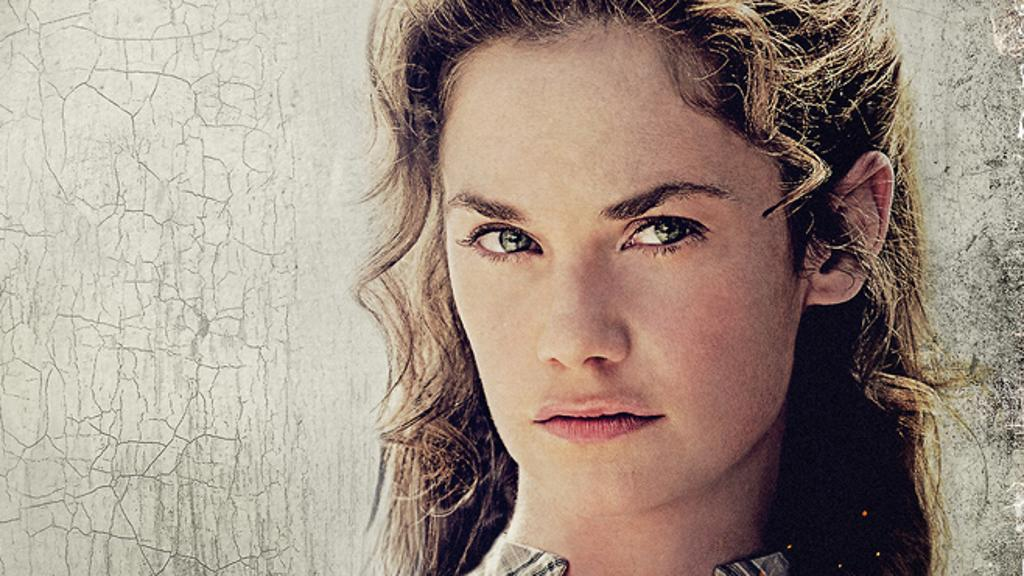face: (446, 34, 812, 500)
